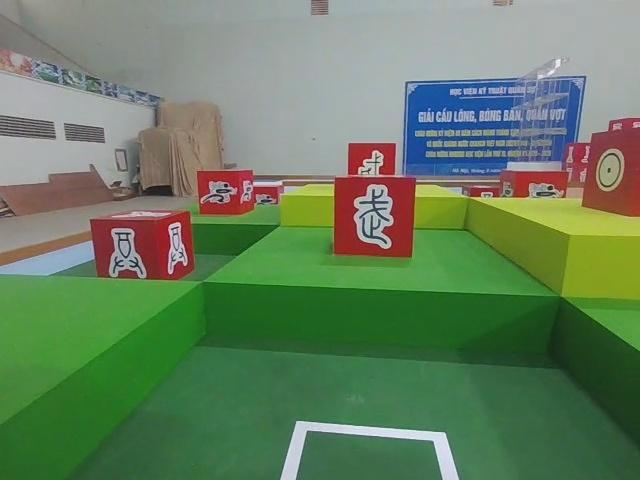R1: (197, 167, 257, 219)
R2 Fake: (332, 175, 418, 260)
R2 Real: (87, 206, 195, 283), (579, 132, 640, 220), (344, 141, 397, 182)
